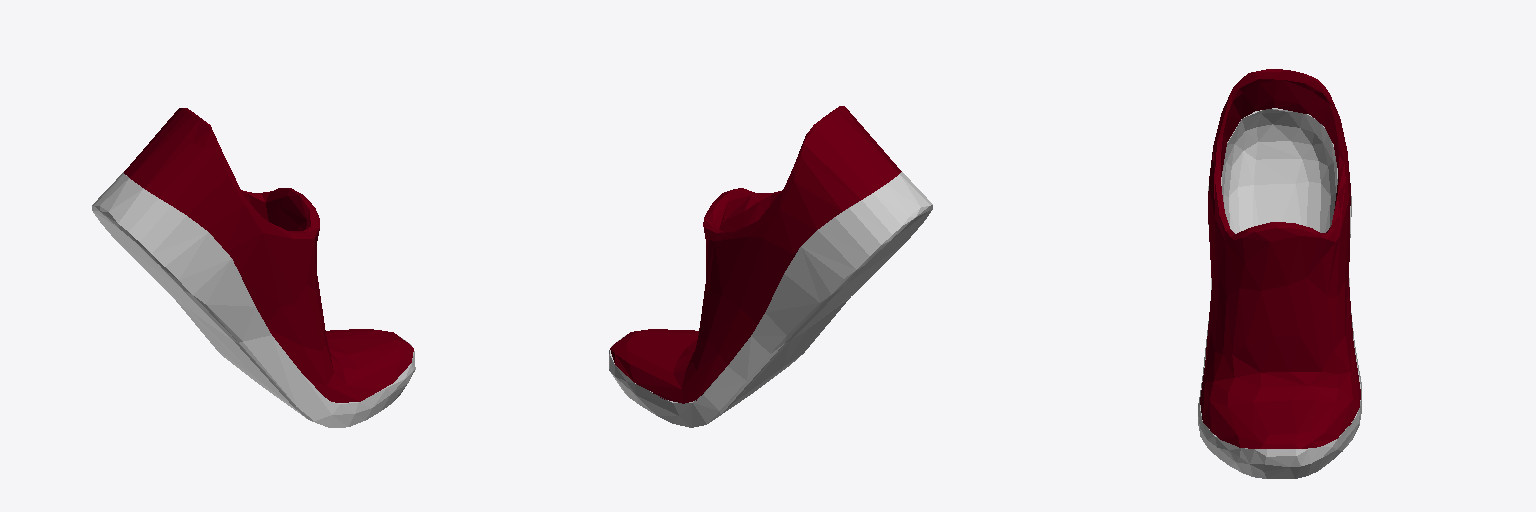
File: main-shoes-pink.obj
3 renders of one model, left to right at view 1: azimuth 30°, elevation 25°; view 2: azimuth 150°, elevation 25°; view 3: azimuth 270°, elevation 25°, orthographic.
Parts seen in each view (by area): view 1: SHOES2_Cube.002, SHOES_Cube; view 2: SHOES2_Cube.002, SHOES_Cube; view 3: SHOES2_Cube.002, SHOES_Cube.
Boxes of the visible parts, x1=… form: SHOES2_Cube.002: x1=124, y1=108, x2=413, y2=402; SHOES_Cube: x1=92, y1=172, x2=415, y2=427; SHOES2_Cube.002: x1=610, y1=106, x2=901, y2=403; SHOES_Cube: x1=609, y1=172, x2=932, y2=427; SHOES2_Cube.002: x1=1200, y1=69, x2=1360, y2=448; SHOES_Cube: x1=1198, y1=108, x2=1361, y2=478.
Bounding box in the file's own units: 10.32 × 10.22 × 4.86.